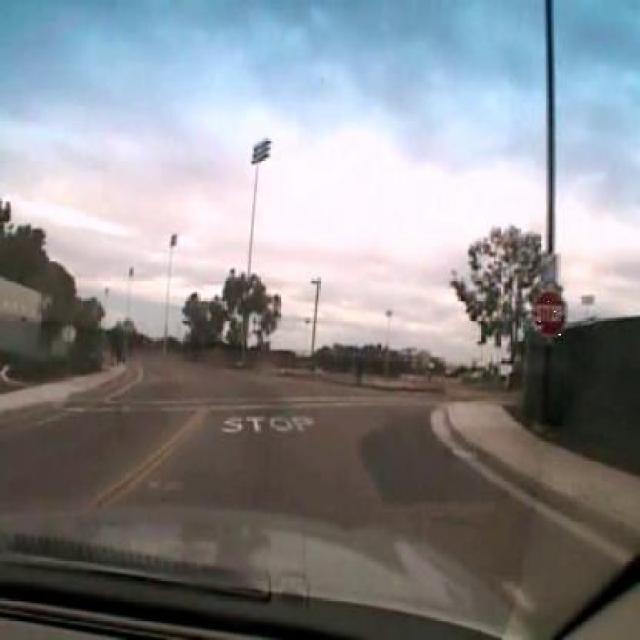stop: (532, 290, 566, 338)
